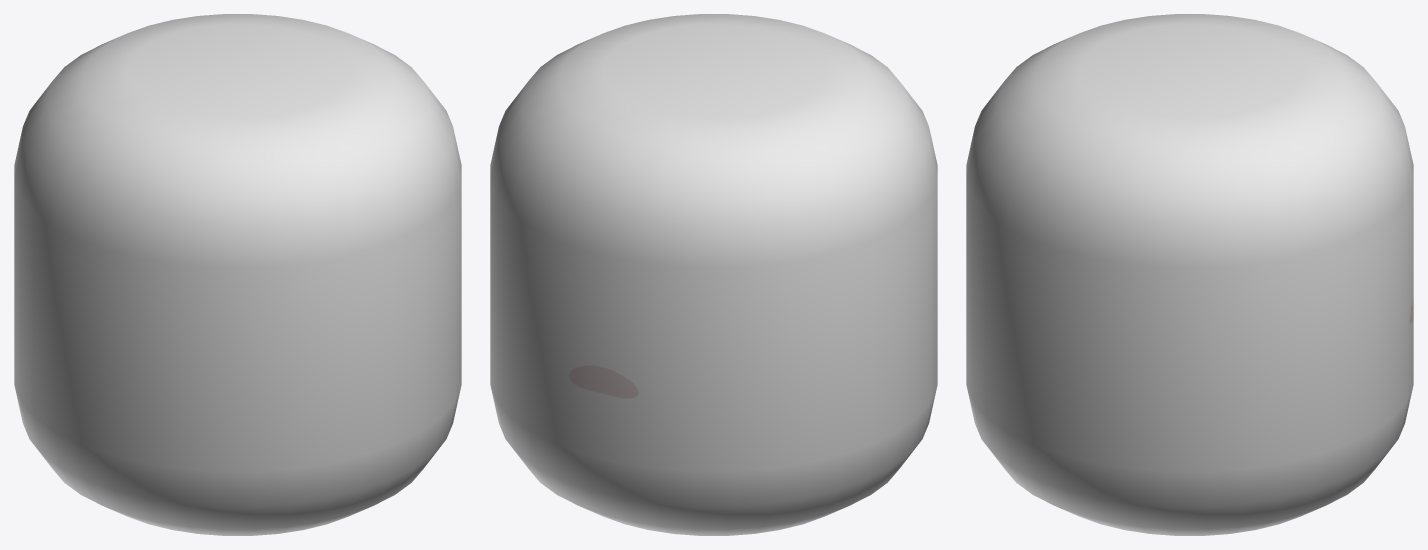
The model's file is 06-Bored-Face-face.glb.
3 views of the same model, side by side, from view 1: azimuth 30°, elevation 25°; view 2: azimuth 150°, elevation 25°; view 3: azimuth 270°, elevation 25° (orthographic).
Visible parts, largest first — view 1: 06-Bored-Face-face; view 2: 06-Bored-Face-face; view 3: 06-Bored-Face-face.
Part boxes in pixels (x1,y1,x2,y2): 06-Bored-Face-face: (14, 14, 461, 535); 06-Bored-Face-face: (490, 14, 937, 535); 06-Bored-Face-face: (966, 14, 1413, 535).
Bounding box in the file's own units: 1.2 × 1.2 × 1.2.
1 material, 1 textured.
